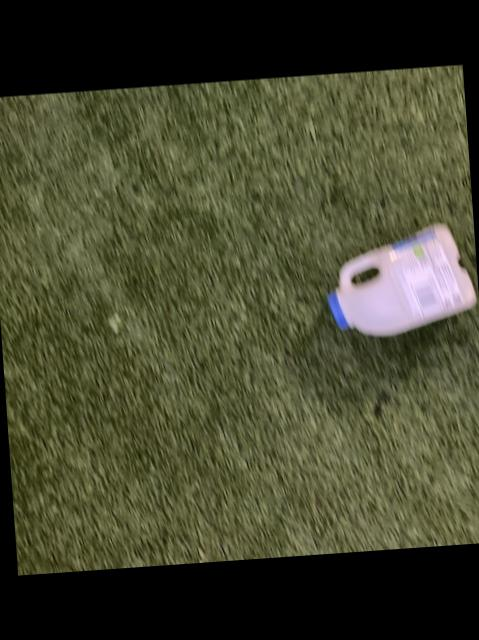plastic: (325, 223, 472, 335)
